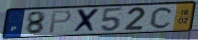2: (123, 6, 148, 32)
5: (100, 6, 125, 33)
8: (25, 11, 48, 35)
C: (149, 6, 176, 30)
P: (48, 9, 73, 34)
X: (71, 7, 102, 34)
